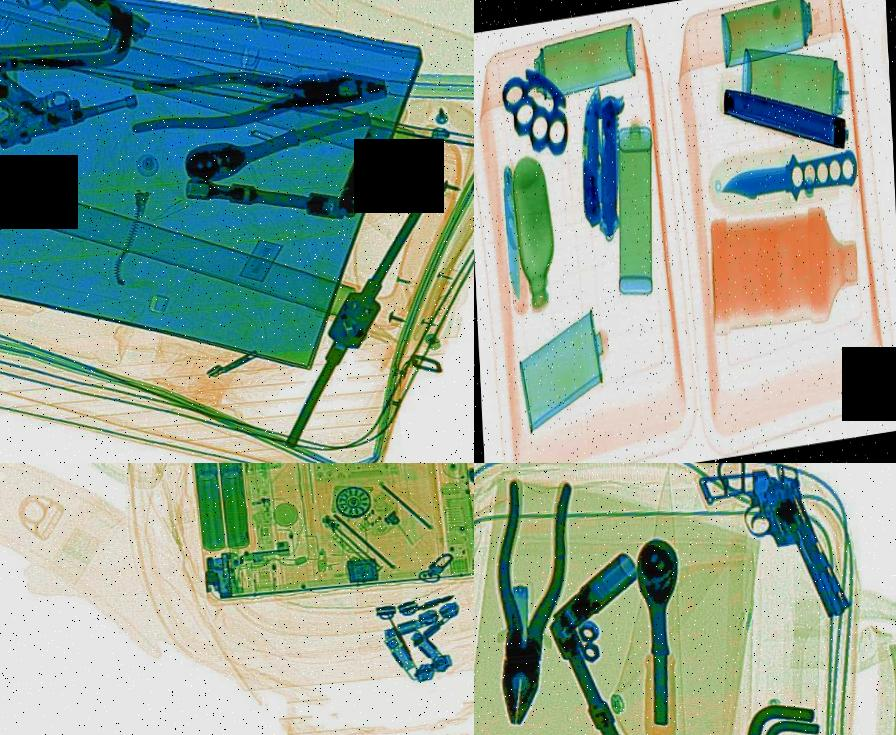Gun: (695, 463, 856, 646), (0, 33, 145, 149), (0, 0, 163, 90)
Knife: (483, 46, 597, 174), (720, 148, 858, 203), (592, 92, 630, 234), (576, 83, 610, 228), (501, 163, 525, 296)
Pliers: (474, 467, 597, 732), (125, 54, 390, 136)
